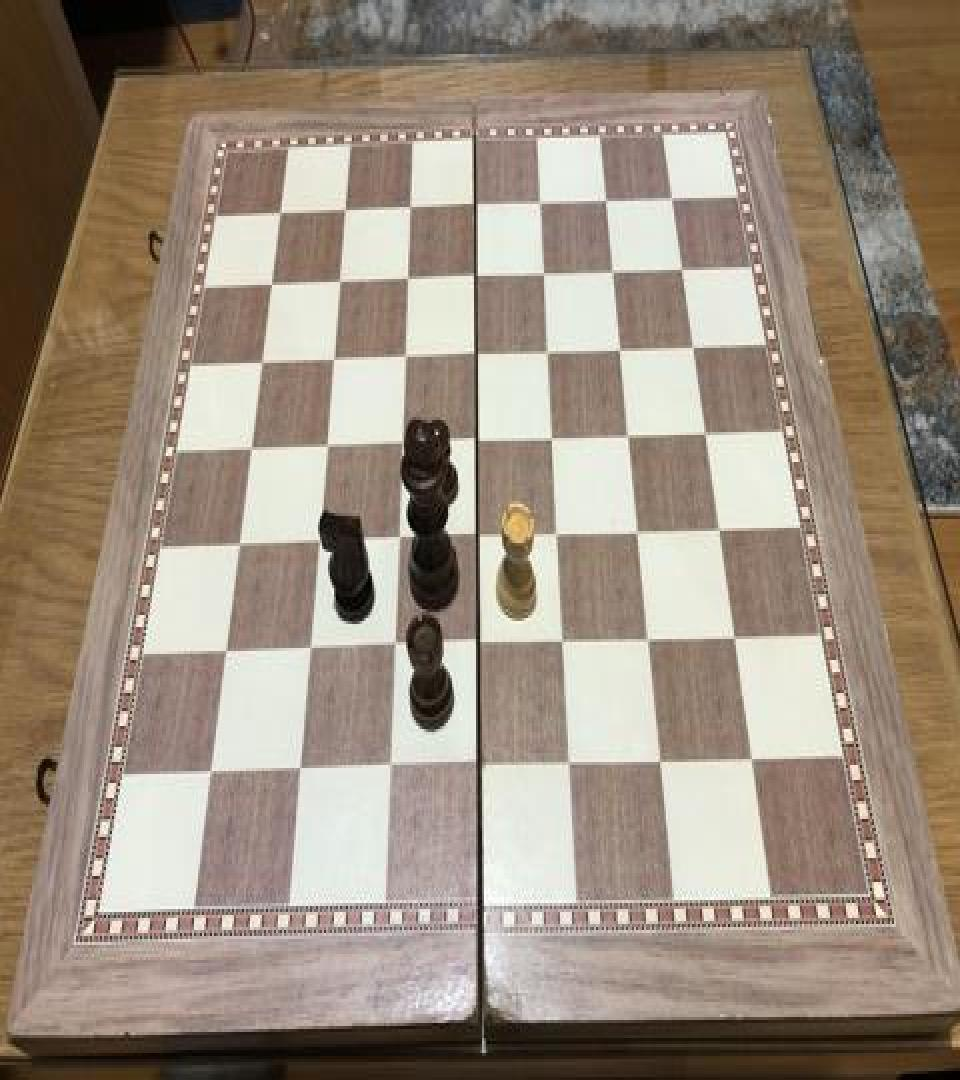xcorner: (627, 514, 651, 551), (742, 739, 766, 776), (651, 742, 675, 779), (658, 183, 682, 219), (593, 184, 617, 220), (463, 190, 487, 226), (398, 194, 422, 230), (333, 196, 357, 232), (269, 198, 293, 234), (669, 252, 693, 288), (600, 255, 624, 291), (532, 258, 556, 294), (464, 261, 488, 297), (396, 264, 420, 300), (328, 267, 352, 303), (261, 268, 285, 304), (680, 330, 704, 366), (608, 333, 632, 369), (536, 336, 560, 372), (465, 338, 489, 374), (393, 340, 417, 376), (251, 346, 275, 382), (693, 416, 717, 452), (617, 418, 641, 454), (542, 422, 566, 458), (466, 424, 490, 460), (391, 428, 415, 464), (316, 429, 340, 465), (241, 432, 265, 468), (708, 512, 732, 548), (547, 518, 571, 554), (468, 519, 492, 555), (388, 522, 412, 558), (309, 525, 333, 561), (230, 528, 254, 564), (724, 618, 748, 654), (639, 621, 663, 657), (554, 624, 578, 660), (469, 627, 493, 663), (385, 630, 409, 666), (301, 633, 325, 669), (217, 634, 241, 670), (561, 746, 585, 782), (471, 747, 495, 783), (381, 750, 405, 786), (292, 753, 316, 789), (203, 756, 227, 792), (528, 188, 552, 223), (322, 344, 346, 379)
